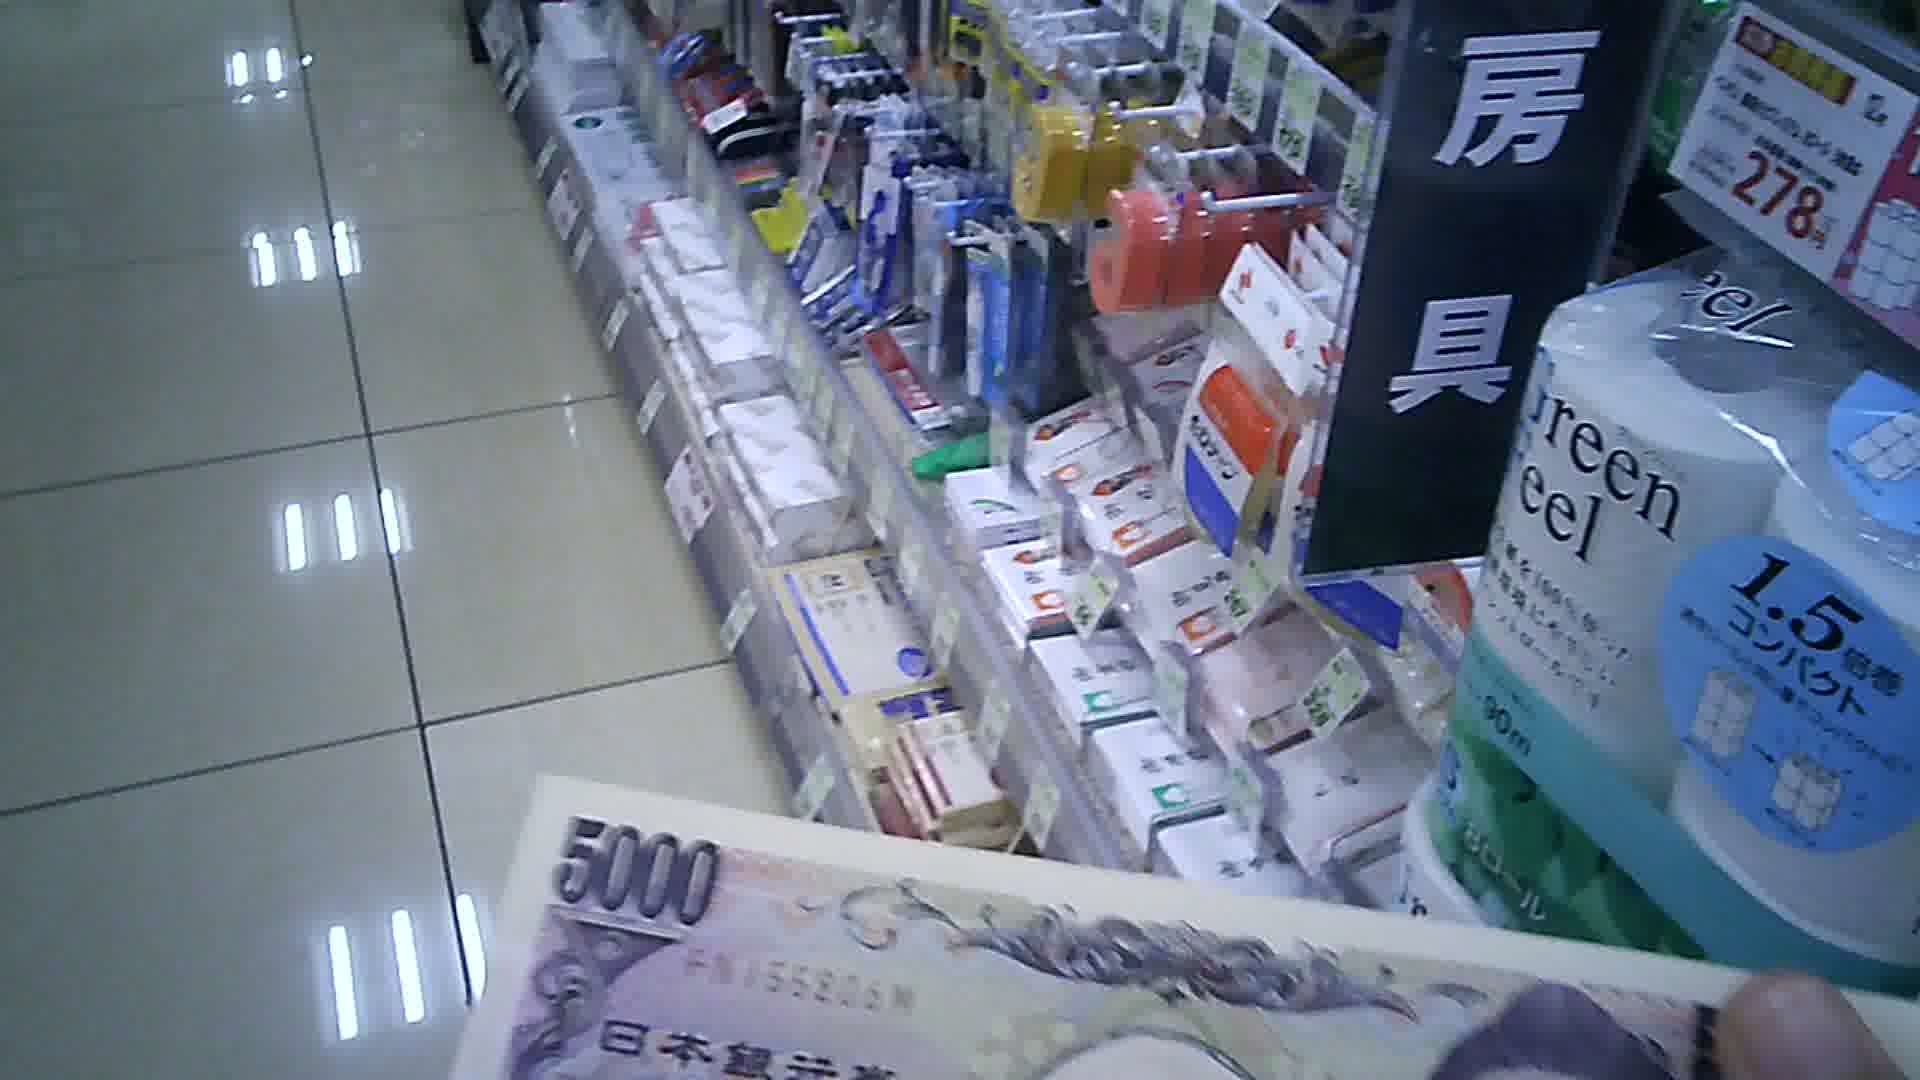5,000 Yen: (484, 766, 1737, 1077)
